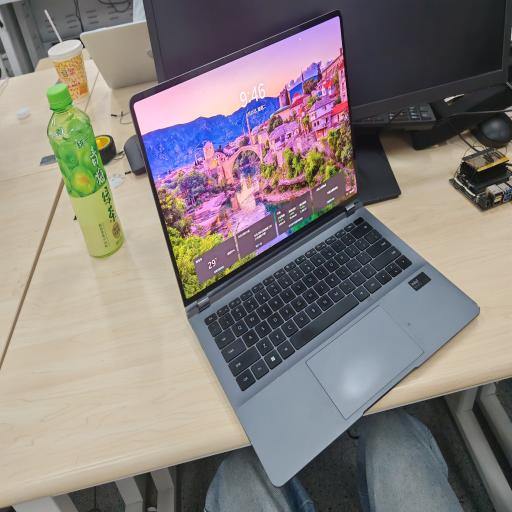laptop: (130, 12, 479, 486), (80, 21, 157, 89), (248, 20, 250, 22)
mouse: (470, 112, 512, 148)
